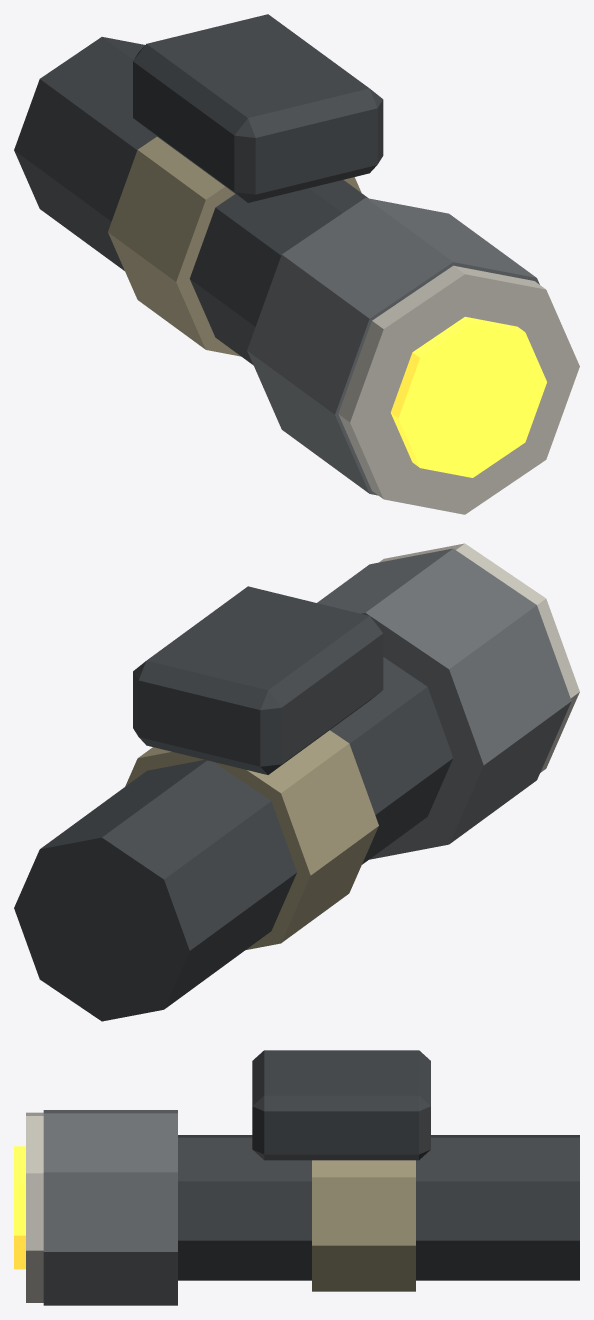
File: mod_flashlight.glb
3 views of the same model, one above another, from view 1: azimuth 30°, elevation 25°; view 2: azimuth 150°, elevation 25°; view 3: azimuth 270°, elevation 25° (orthographic). The views are drawn at different scales.
Visible parts, largest first — view 1: flashlight; view 2: flashlight; view 3: flashlight.
Part boxes in pixels (x1=…): flashlight: x1=14, y1=14, x2=579, y2=514; flashlight: x1=14, y1=543, x2=579, y2=1021; flashlight: x1=14, y1=1050, x2=579, y2=1305.
Bounding box in the file's own units: 0.07 × 0.085 × 0.19.
